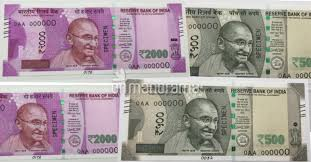twoThousand: (11, 13, 179, 63)
